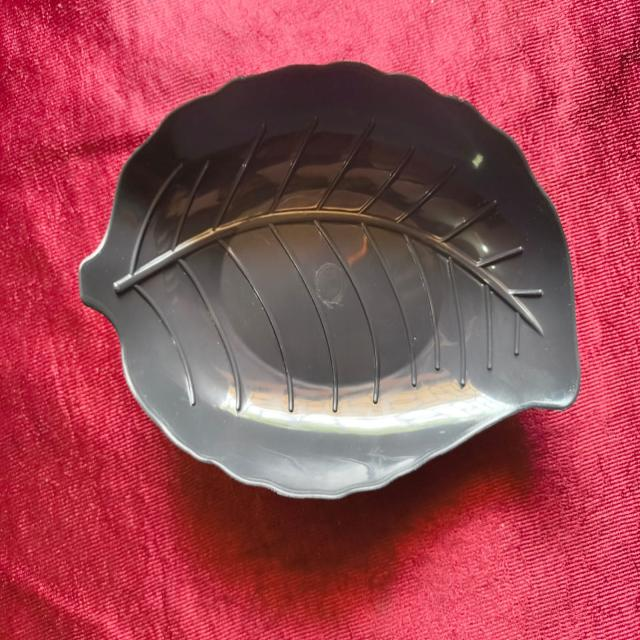pen: (78, 54, 586, 507)
